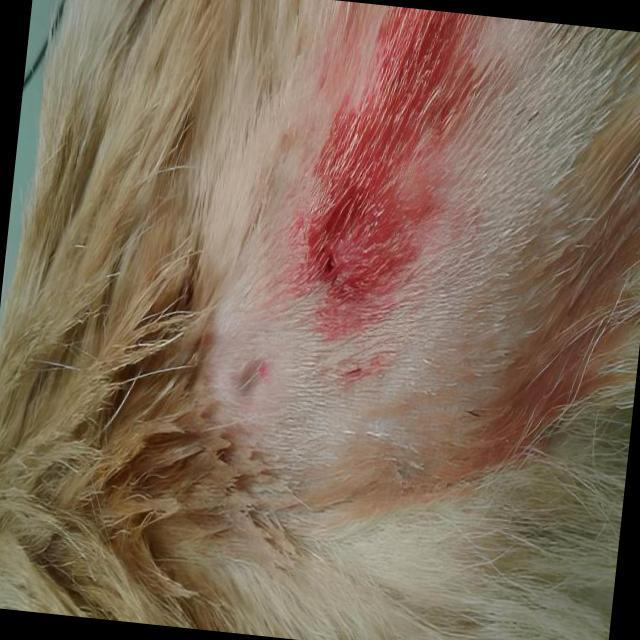allergic dermatitis: (202, 6, 581, 490)
